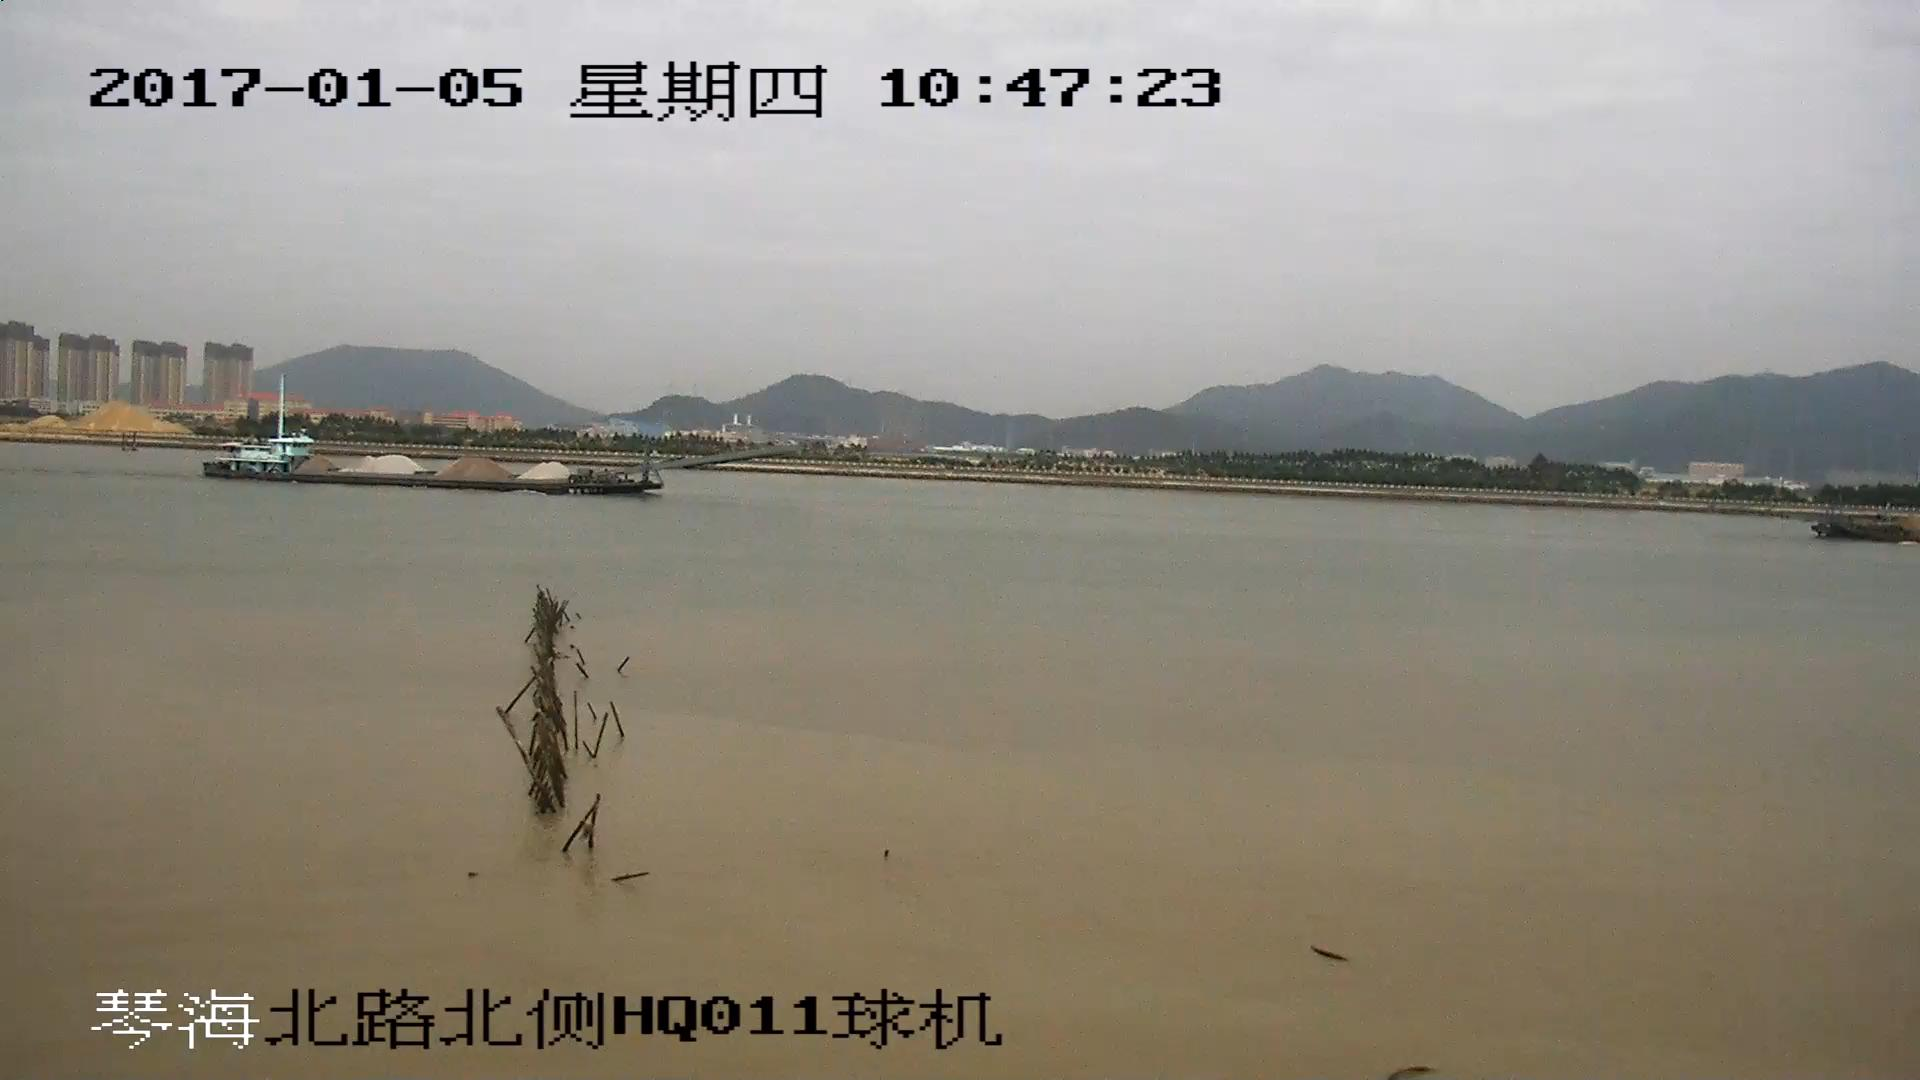ore carrier: (210, 380, 780, 498)
